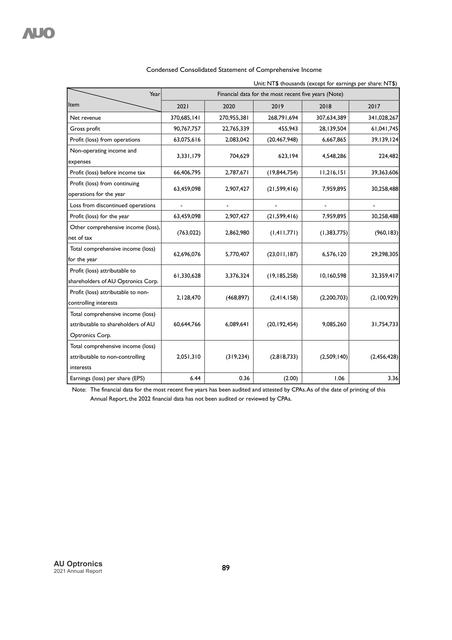box: (65, 79, 404, 403)
